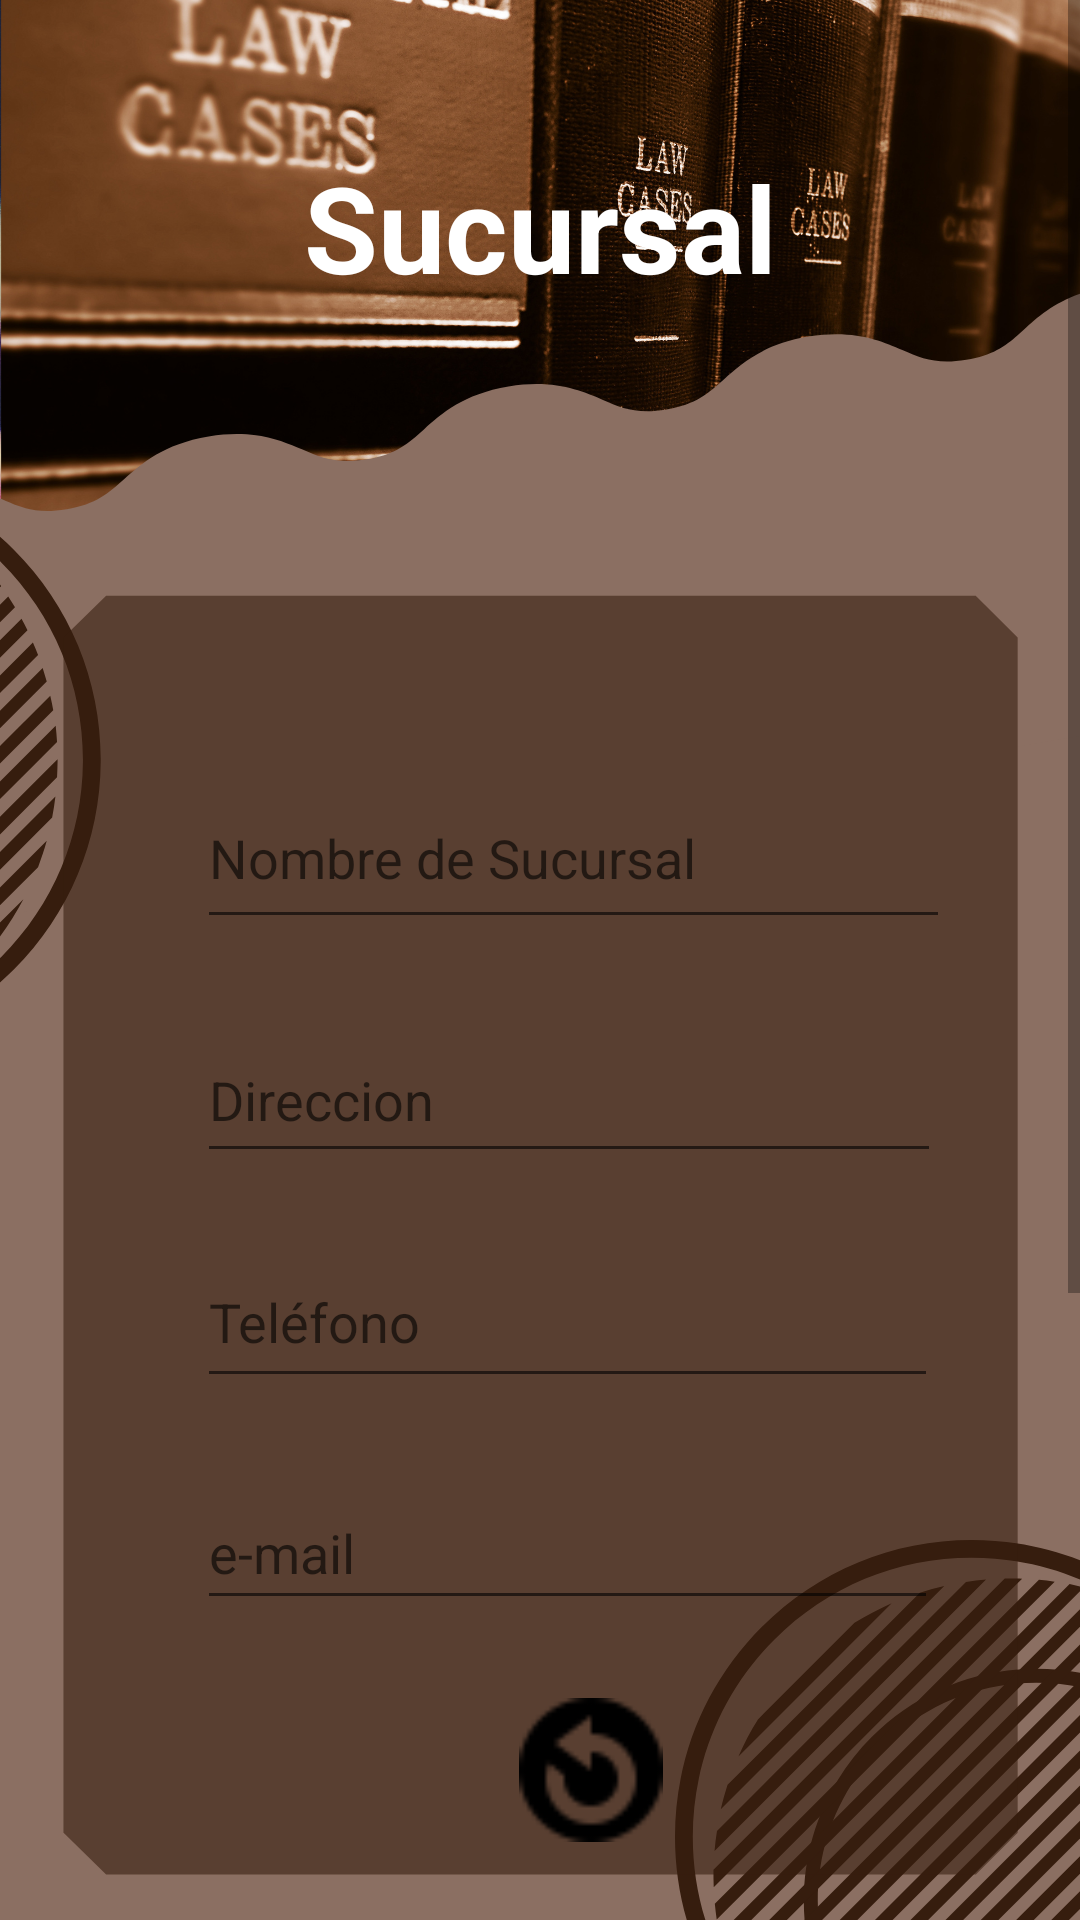

Screen size 1080px×1920px. Icon name, then its center in pixels as [x,y]:
actualizar: [591,1770]
